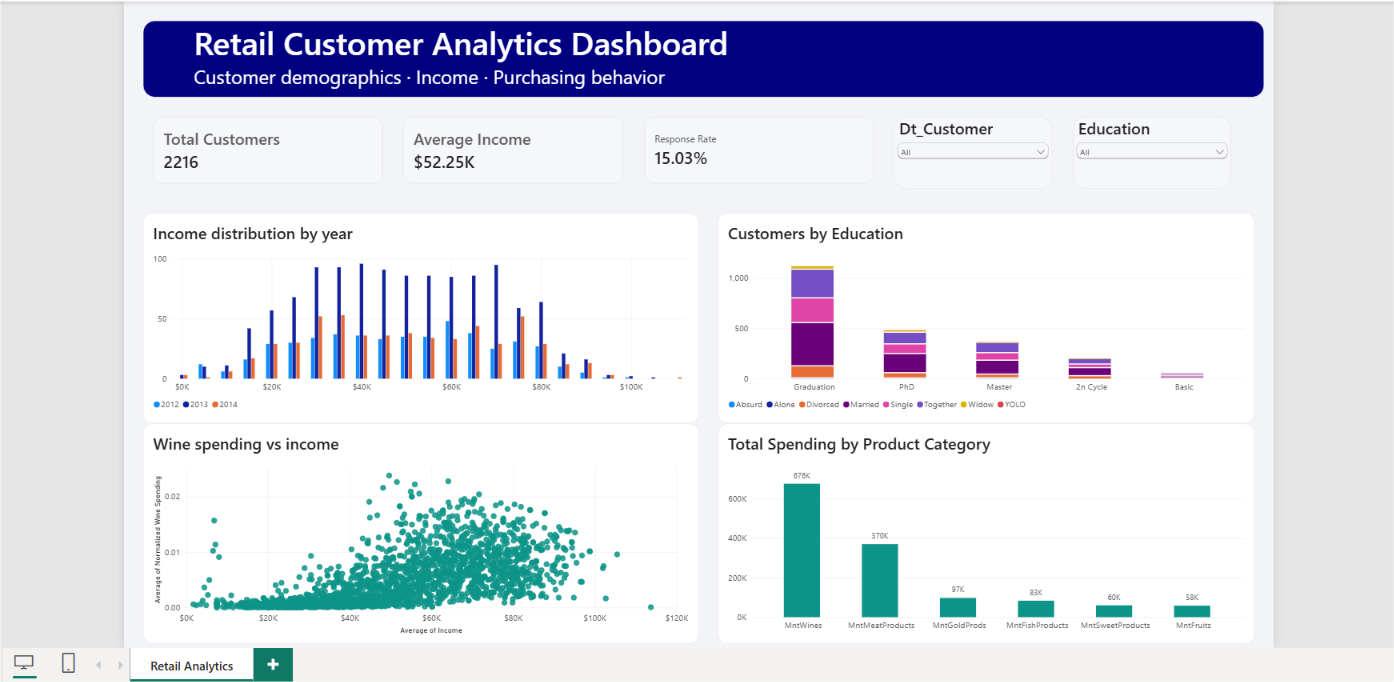

The dashboard page shown, as its layout file describes it:
{"tool":"powerbi","page":{"name":"Retail Analytics","canvas":[1920,1080],"ordinal":0},"visuals":[{"type":"textbox","box":[32,32,1872,128],"z":0},{"type":"cardVisual","fields":{"Data":["CountNonNull(marketing_campaign.ID)"]},"box":[48,192,384,112],"z":1},{"type":"cardVisual","fields":{"Data":["Avg(marketing_campaign.Income)"]},"box":[466,191.4,368,112],"z":2},{"type":"cardVisual","fields":{"Data":["marketing_campaign.Response Rate"]},"box":[868,191.4,384,112],"z":3},{"type":"clusteredColumnChart","title":"Income distribution by year","fields":{"Category":["marketing_campaign.Income Bin"],"Series":["marketing_campaign.Year Registered"],"Y":["CountNonNull(marketing_campaign.ID)"]},"box":[32,352,928,352],"z":4},{"type":"columnChart","title":"Customers by Education","fields":{"Category":["marketing_campaign.Education"],"Series":["marketing_campaign.Marital_Status"],"Y":["CountNonNull(marketing_campaign.ID)"]},"box":[992,352,896,352],"z":5},{"type":"scatterChart","title":"Wine spending vs income","fields":{"Category":["marketing_campaign.ID"],"X":["Avg(marketing_campaign.Income)"],"Y":["Avg(marketing_campaign.Normalized Wine Spending1)"]},"box":[32,704,928,368],"z":6},{"type":"columnChart","title":"Total Spending by Product Category","fields":{"Category":["product spending detail.Product Category"],"Y":["Sum(product spending detail.Spending)"]},"box":[992,704,896,368],"z":7},{"type":"slicer","fields":{"Values":["marketing_campaign.Dt_Customer.Variation.Date Hierarchy.Year"]},"box":[1286,192,264,120],"z":8},{"type":"slicer","fields":{"Values":["marketing_campaign.Education"]},"box":[1584,192,264,120],"z":9}]}

Visuals, with their boxes on the page's 1920x1080 design canvas (x1, y1, x2, y2). These are canvas units, not pixel positions in the 1394x682 screenshot, which may show the page scaled, cropped or inside an application window:
textbox: 32/32/1904/160
cardVisual - CountNonNull(marketing_campaign.ID): 48/192/432/304
cardVisual - Avg(marketing_campaign.Income): 466/191/834/303
cardVisual - marketing_campaign.Response Rate: 868/191/1252/303
"Income distribution by year" clusteredColumnChart: 32/352/960/704
"Customers by Education" columnChart: 992/352/1888/704
"Wine spending vs income" scatterChart: 32/704/960/1072
"Total Spending by Product Category" columnChart: 992/704/1888/1072
slicer - marketing_campaign.Dt_Customer.Variation.Date Hierarchy.Year: 1286/192/1550/312
slicer - marketing_campaign.Education: 1584/192/1848/312
